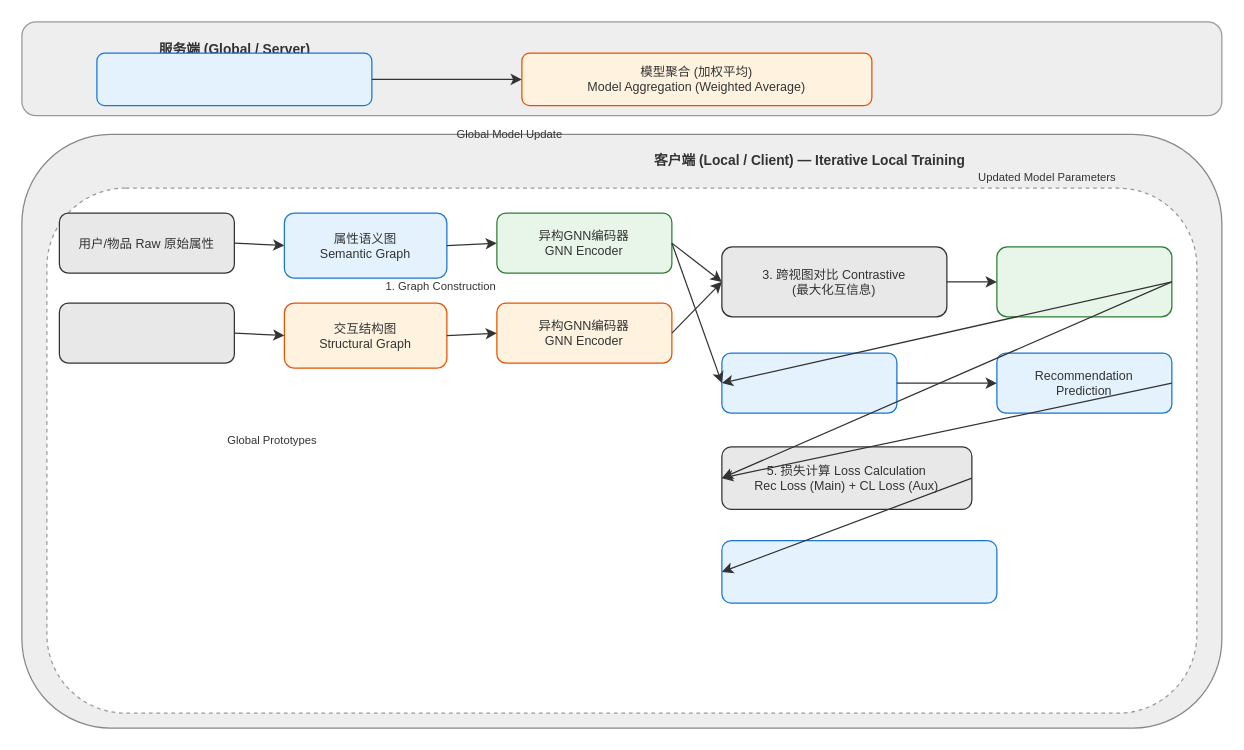
This 1244x750 diagram has some shape labels left out. Each missing label, with the centre of its shape:
4. 原型对齐 (修正偏差) Prototype Alignment: the point at 1084,281
6. 联合反向传播与参数更新 6. Joint Optimization: the point at 859,571
元路径挖掘 Mining & 注意力融合: the point at 809,382
全局语义原型聚合 Prototypes Aggregation: the point at 234,79
本地 Interaction 数据: the point at 146,332
